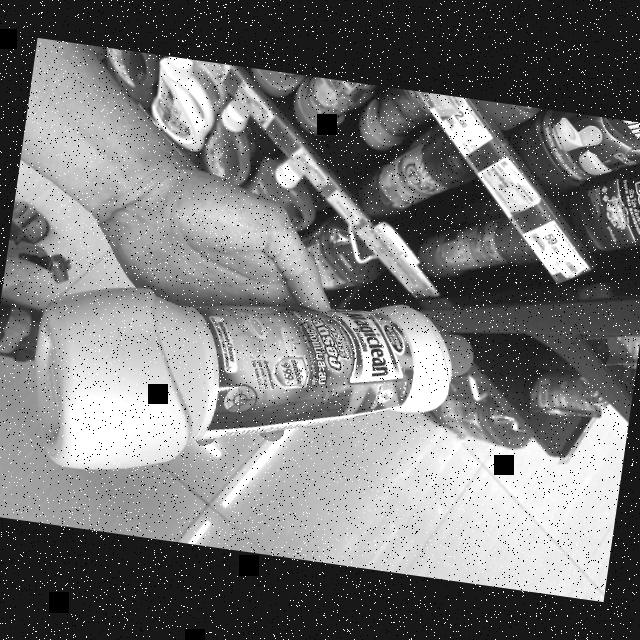chemical_plastic_bottle: (11, 252, 480, 528)
